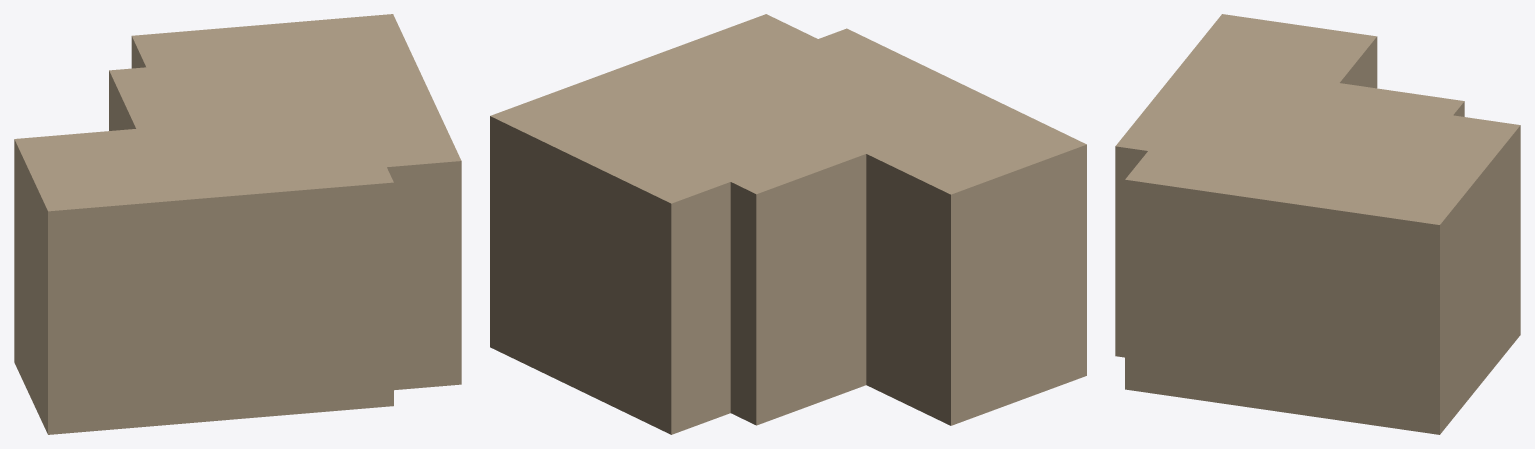
Rendered from bld_158045208.dae.
3 views of the same model, side by side, from view 1: azimuth 30°, elevation 25°; view 2: azimuth 150°, elevation 25°; view 3: azimuth 270°, elevation 25° (orthographic). The views are drawn at different scales.
Parts seen in each view (by area): view 1: bld_158045208; view 2: bld_158045208; view 3: bld_158045208.
Part boxes in pixels (x1,y1,x2,y2): bld_158045208: (14,14,461,434); bld_158045208: (490,14,1086,434); bld_158045208: (1115,14,1520,434).
Size of the model in its own units: 17.26 by 14 by 8.
